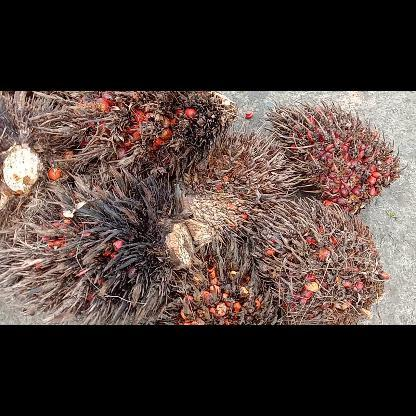Terlalu masak: (0, 165, 212, 324), (256, 198, 387, 324), (37, 91, 236, 173), (267, 99, 407, 212), (177, 124, 299, 242), (158, 236, 276, 324), (0, 91, 72, 219)
